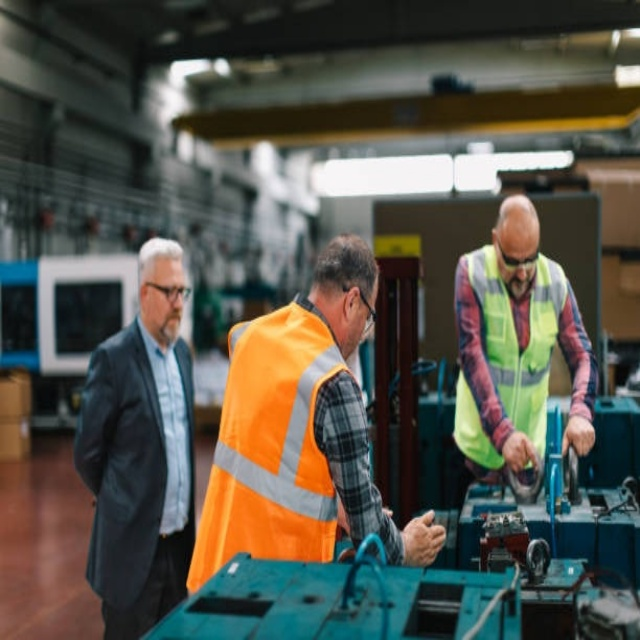Gafas: (344, 283, 377, 334), (496, 235, 539, 270), (145, 282, 193, 303)
Sin_guantes: (401, 506, 447, 568), (502, 425, 538, 474), (562, 413, 596, 461)
Sin_mascara: (158, 304, 185, 334), (506, 273, 534, 295)
